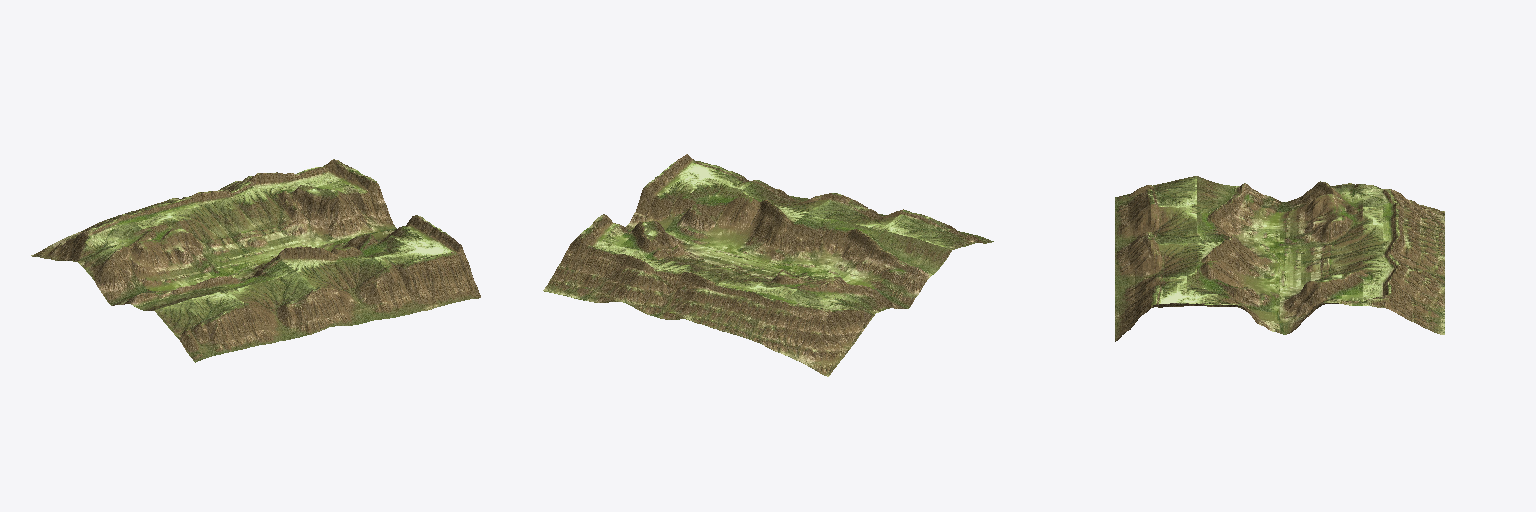
3 renders of one model, left to right at view 1: azimuth 30°, elevation 25°; view 2: azimuth 150°, elevation 25°; view 3: azimuth 270°, elevation 25°, orthographic.
Parts seen in each view (by area): view 1: TerrainMes; view 2: TerrainMes; view 3: TerrainMes.
Boxes of the visible parts, box(x1,y1,x2,y2) form: TerrainMes: box(31, 159, 480, 362); TerrainMes: box(543, 154, 993, 376); TerrainMes: box(1115, 176, 1444, 341).
Bounding box in the file's own units: 254 × 43.06 × 254.
1 materials, 1 textured.